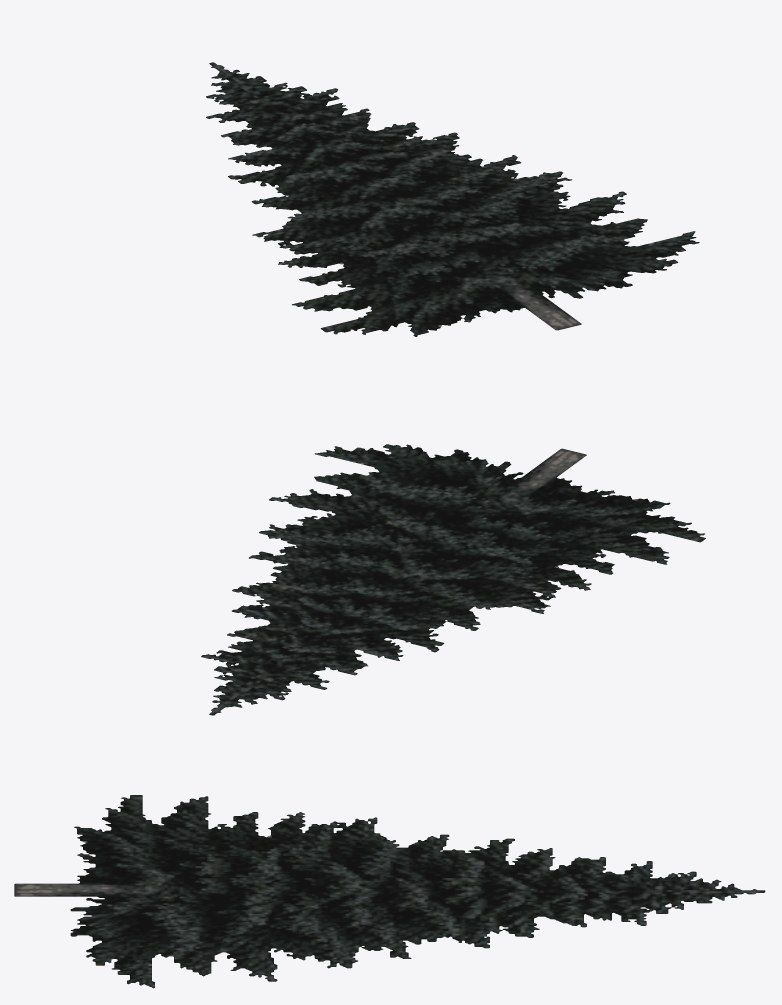
Rendered from SM_EC_Tree_Card_01.fbx.
3 renders of one model, top to bottom at view 1: azimuth 30°, elevation 25°; view 2: azimuth 150°, elevation 25°; view 3: azimuth 270°, elevation 25°, orthographic. The views are drawn at different scales.
Parts seen in each view (by area): view 1: SM_EC_Tree_Card_01; view 2: SM_EC_Tree_Card_01; view 3: SM_EC_Tree_Card_01.
Part boxes in pixels (box(x1,y1,x2,y2)): SM_EC_Tree_Card_01: box(206, 62, 699, 336); SM_EC_Tree_Card_01: box(201, 444, 705, 715); SM_EC_Tree_Card_01: box(14, 795, 765, 988).
Size of the model in its own units: 2.35 by 3.76 by 2.53e-09.
